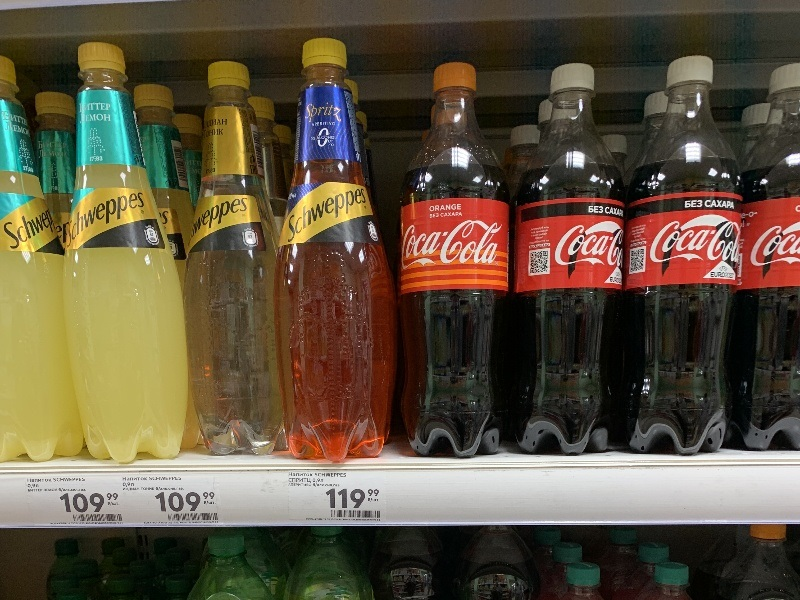lemonade: (52, 39, 192, 467), (273, 35, 403, 470), (171, 59, 293, 470), (397, 58, 513, 465), (623, 50, 737, 459), (509, 61, 625, 461)
